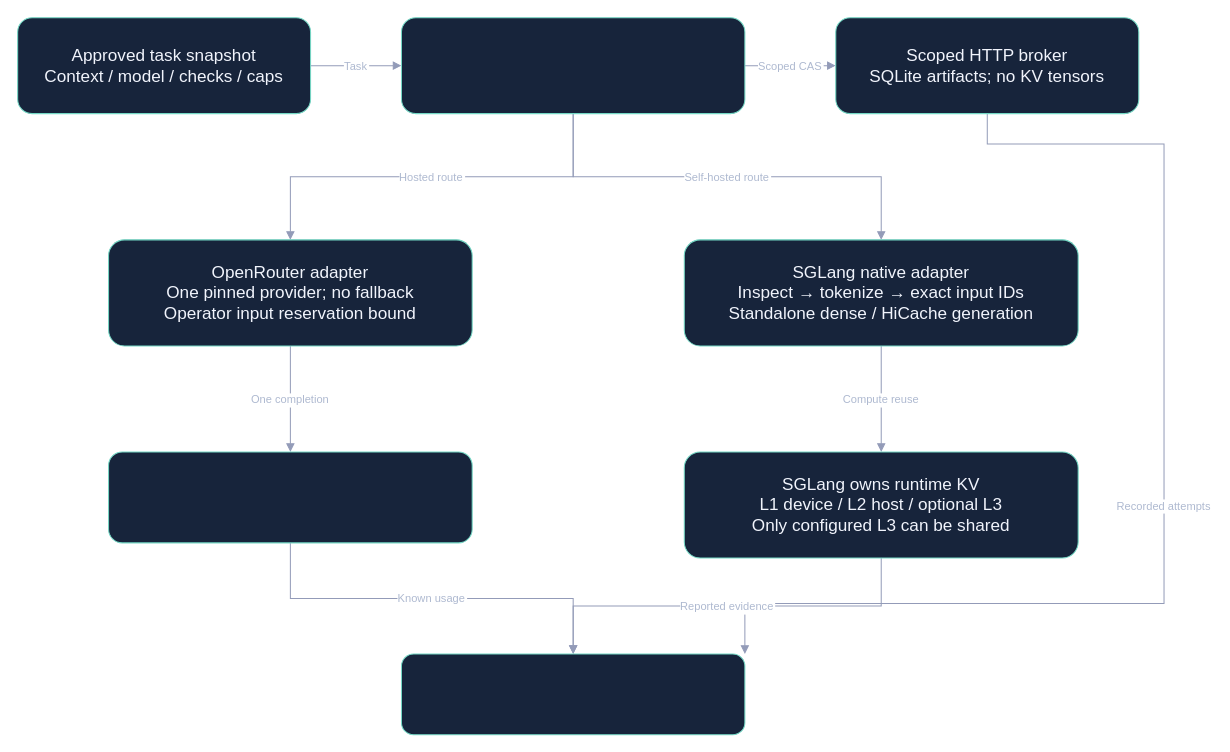
Some shapes in this 1230 by 752 pixel diagram are drawn without their labels. Each missing label, with the box of its shape:
Checks + explicit human outcomes Acceptance / rewrites / effort: (400, 653, 745, 735)
Hosted model provider Native usage / caller cost estimates: (108, 451, 472, 543)
Questlock Go Runner Claim / reuse / budget / outcome: (400, 17, 745, 114)
